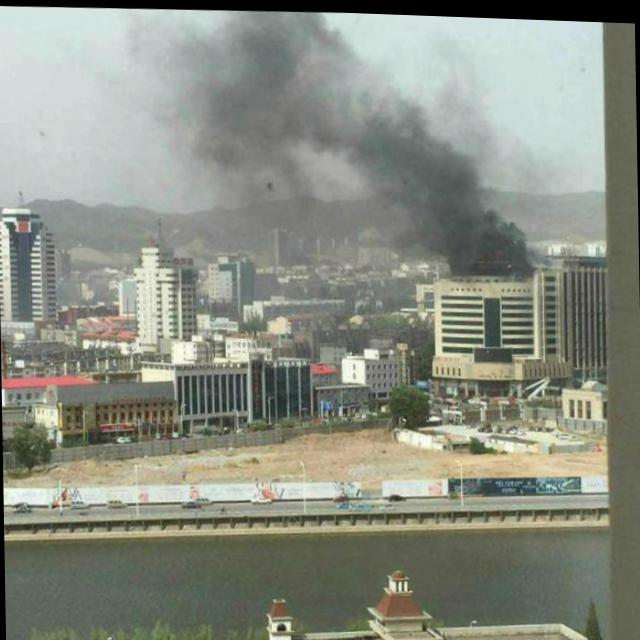smoke: (204, 6, 295, 161), (305, 48, 391, 149), (382, 108, 480, 191), (152, 17, 206, 132), (436, 188, 520, 260)
